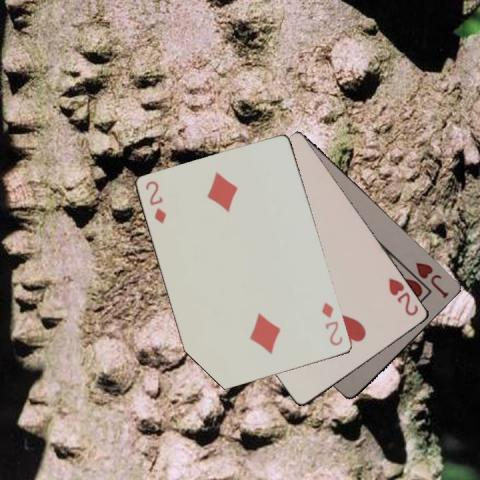2d: (318, 300, 344, 348), (143, 178, 168, 225)
2h: (386, 275, 420, 317)
Jh: (413, 259, 451, 299)
